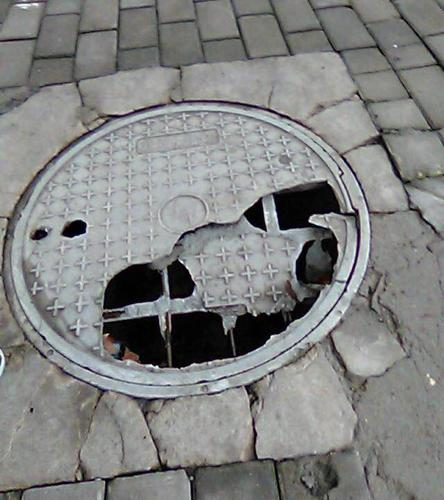broke: (9, 81, 390, 447)
